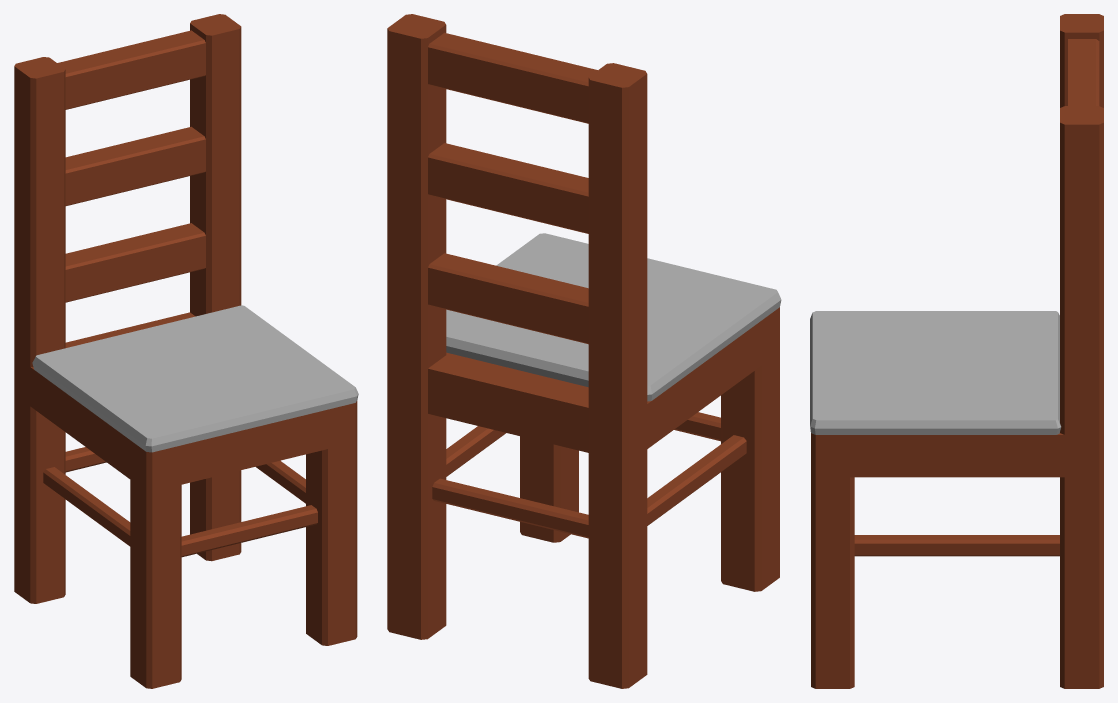
Rendered from Silla01.fbx.
3 views of the same model, side by side, from view 1: azimuth 30°, elevation 25°; view 2: azimuth 150°, elevation 25°; view 3: azimuth 270°, elevation 25° (orthographic). The views are drawn at different scales.
Parts seen in each view (by area): view 1: Silla01; view 2: Silla01; view 3: Silla01.
Boxes of the visible parts, x1,y1,x2,y2 form: Silla01: [14, 14, 358, 688]; Silla01: [387, 14, 781, 688]; Silla01: [810, 14, 1103, 688].
Size of the model in its own units: 42.45 by 100 by 47.17.
